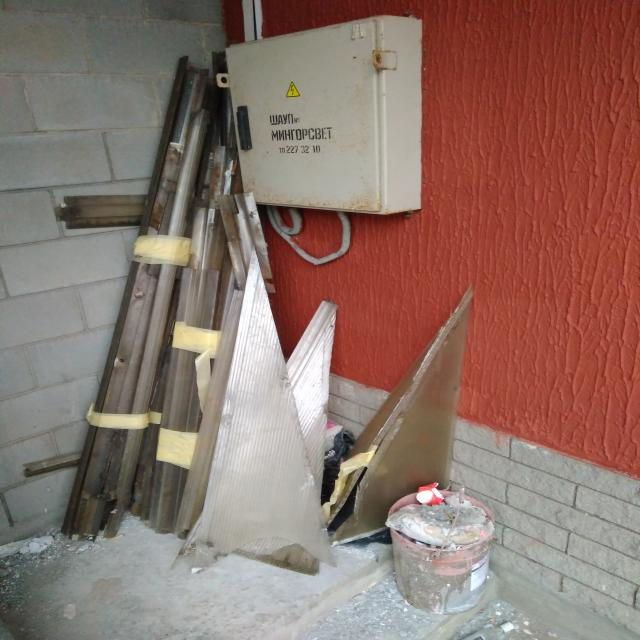entulho: (178, 241, 338, 557), (315, 297, 484, 545), (64, 234, 185, 539), (146, 55, 247, 246), (381, 485, 506, 629), (53, 191, 162, 227)
